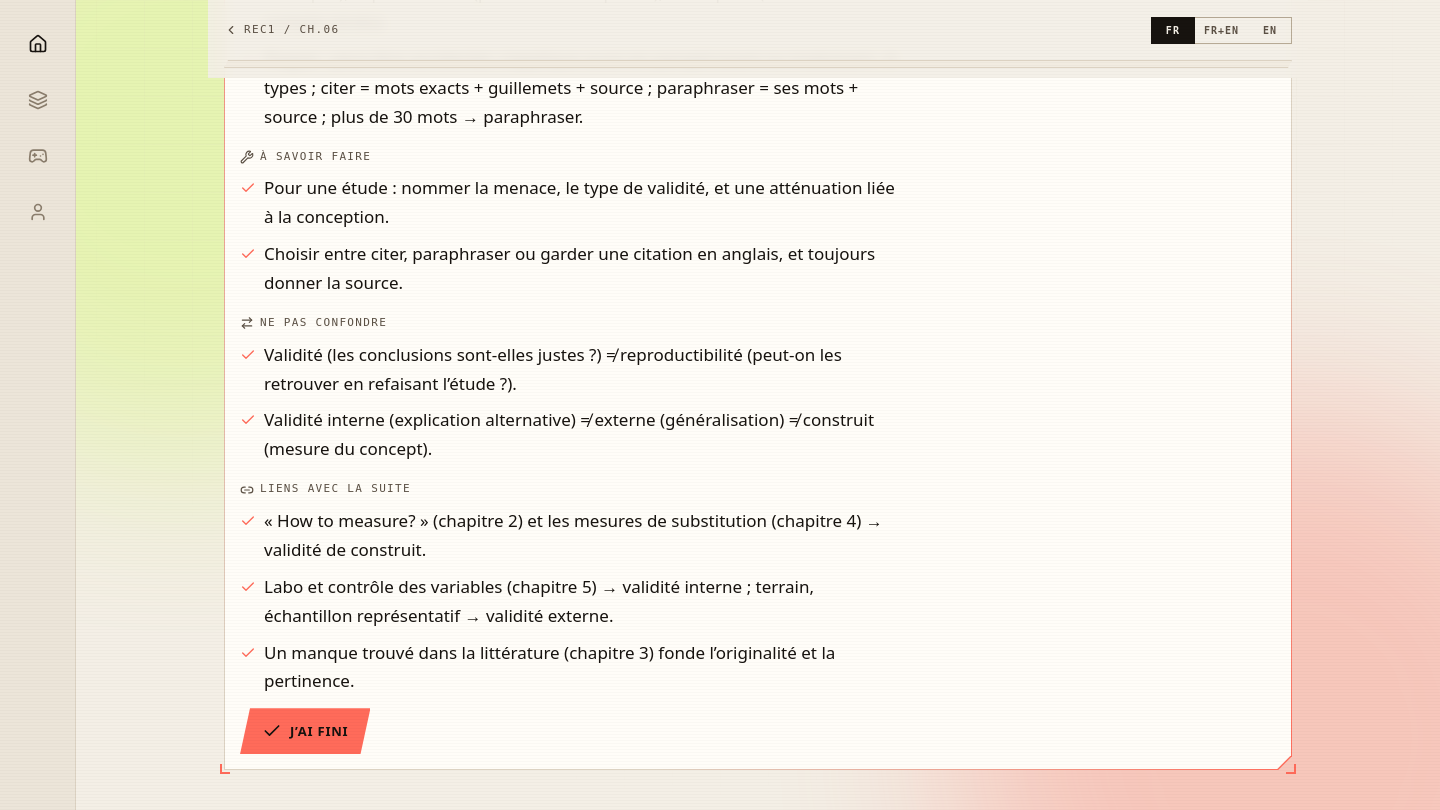
it: lecteur REC1-05 › « J’ai fini » marque le chapitre lu
(page scrolled)
Click the button "J’ai fini" at (305, 731), box [240,708,370,754]
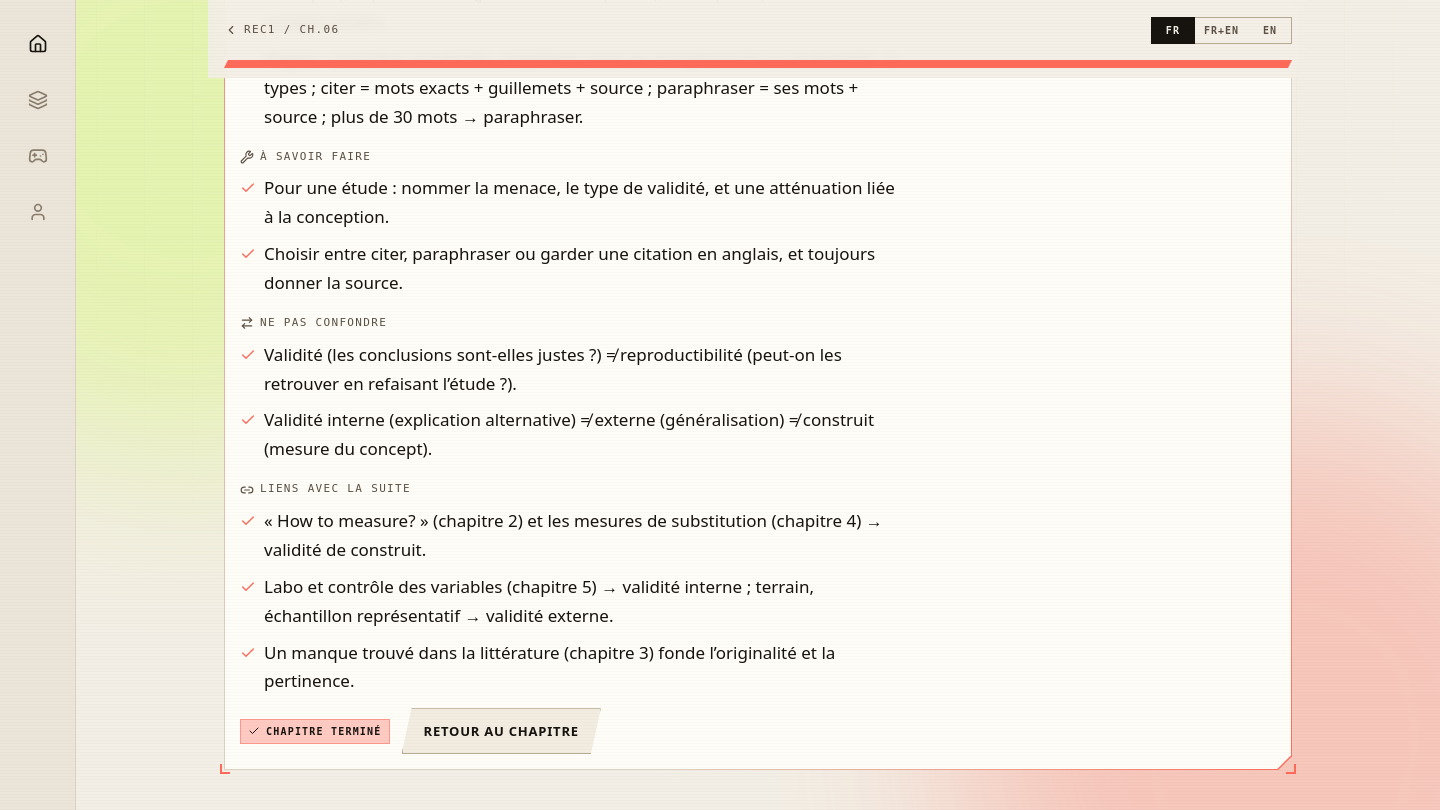
Expected: the text "Chapitre terminé" is shown, [240,719,390,744]
